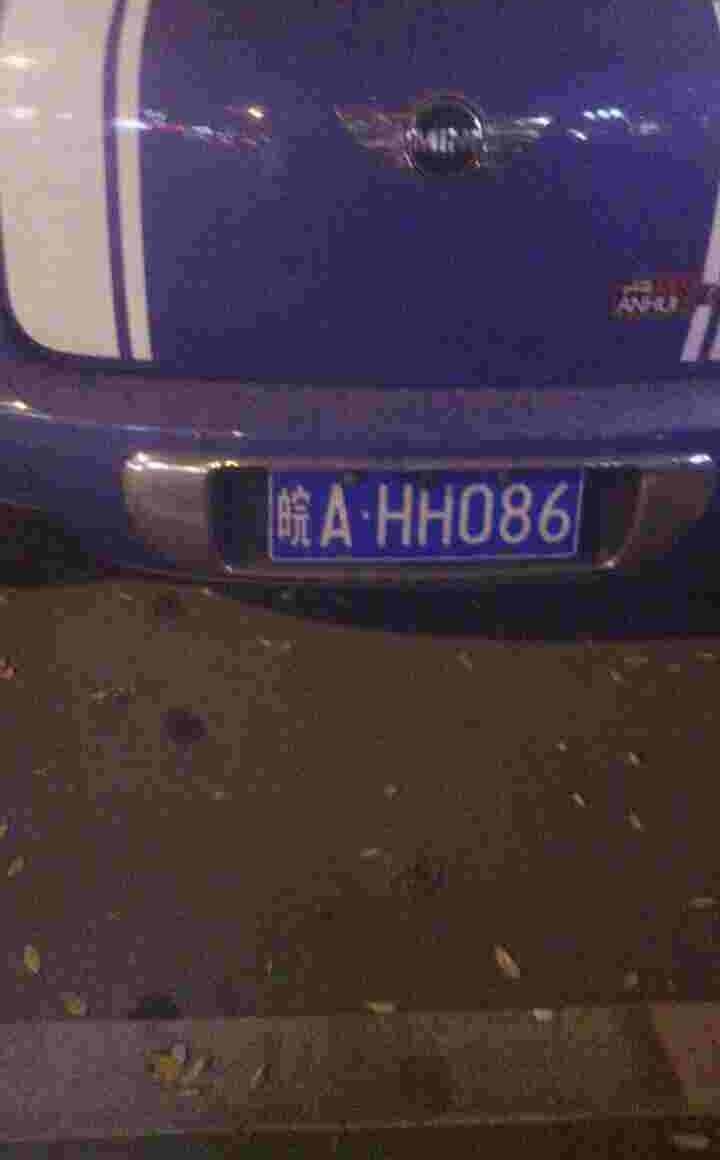license_plate: (265, 464, 597, 559)
